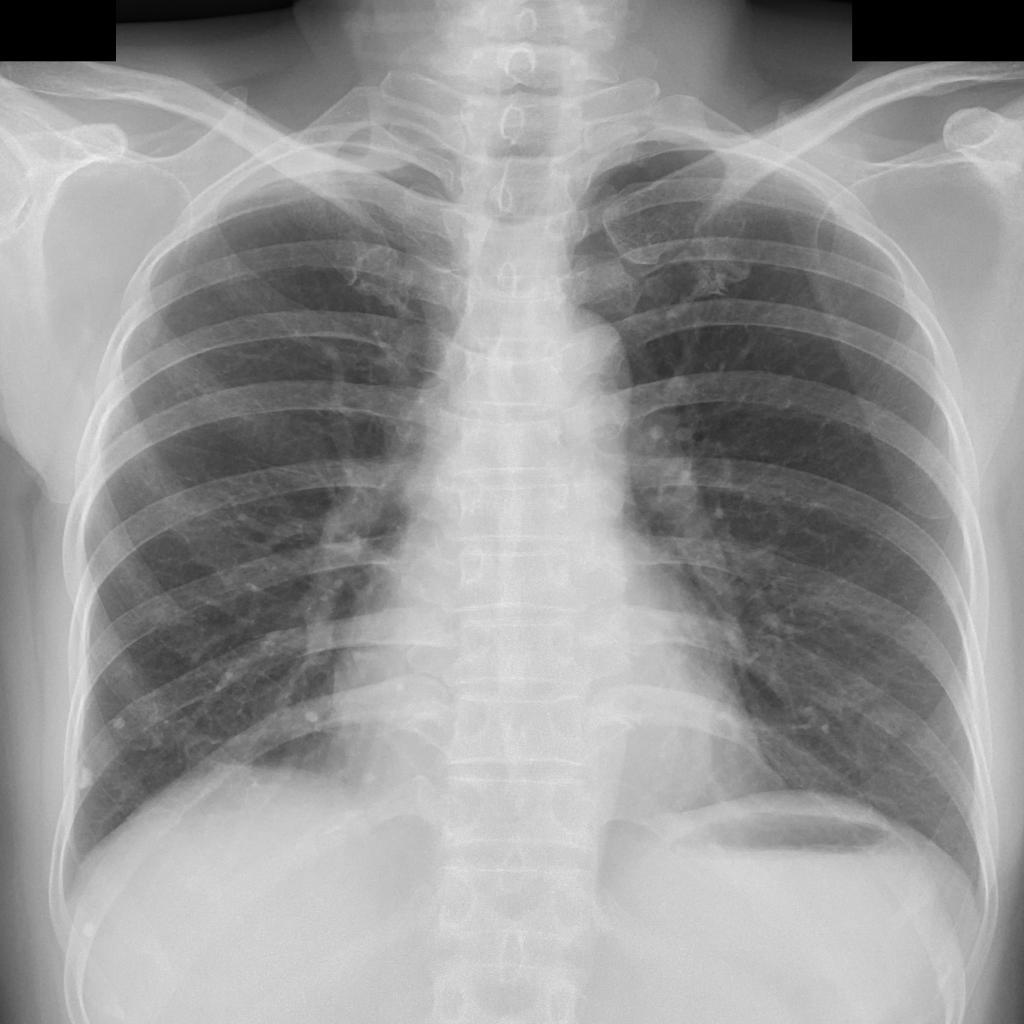Nodule: (74, 766, 96, 792), (111, 715, 128, 731)
